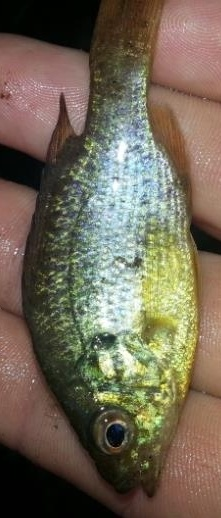Lepomis gibbosus: (20, 1, 201, 498)
